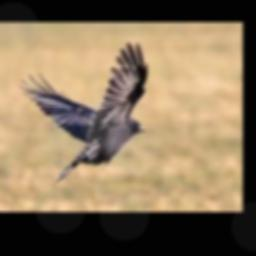Crow: (18, 42, 148, 181)
